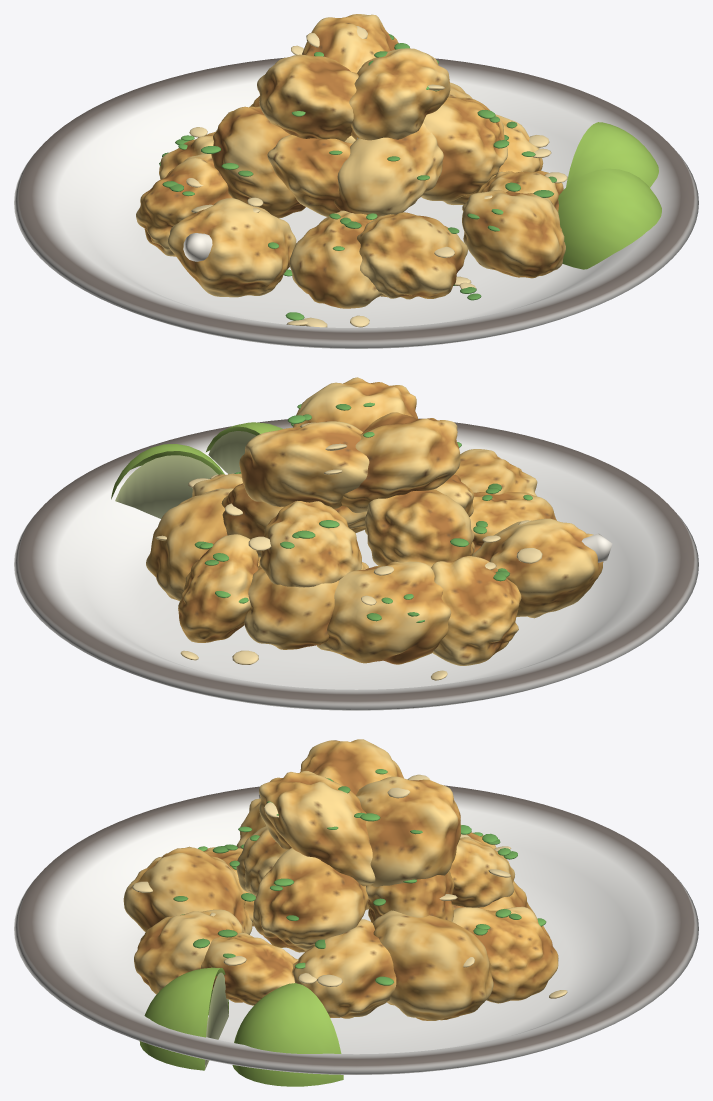
File: frango-a-passarinho.glb
3 renders of one model, top to bottom at view 1: azimuth 30°, elevation 25°; view 2: azimuth 150°, elevation 25°; view 3: azimuth 270°, elevation 25°, orthographic.
Visible parts, largest first — view 1: frango_a_passarinho; view 2: frango_a_passarinho; view 3: frango_a_passarinho.
Boxes of the visible parts, x1=… form: frango_a_passarinho: x1=14, y1=14, x2=698, y2=348; frango_a_passarinho: x1=14, y1=377, x2=698, y2=710; frango_a_passarinho: x1=14, y1=739, x2=698, y2=1086.
Size of the model in its own units: 0.27 by 0.0914 by 0.27.
